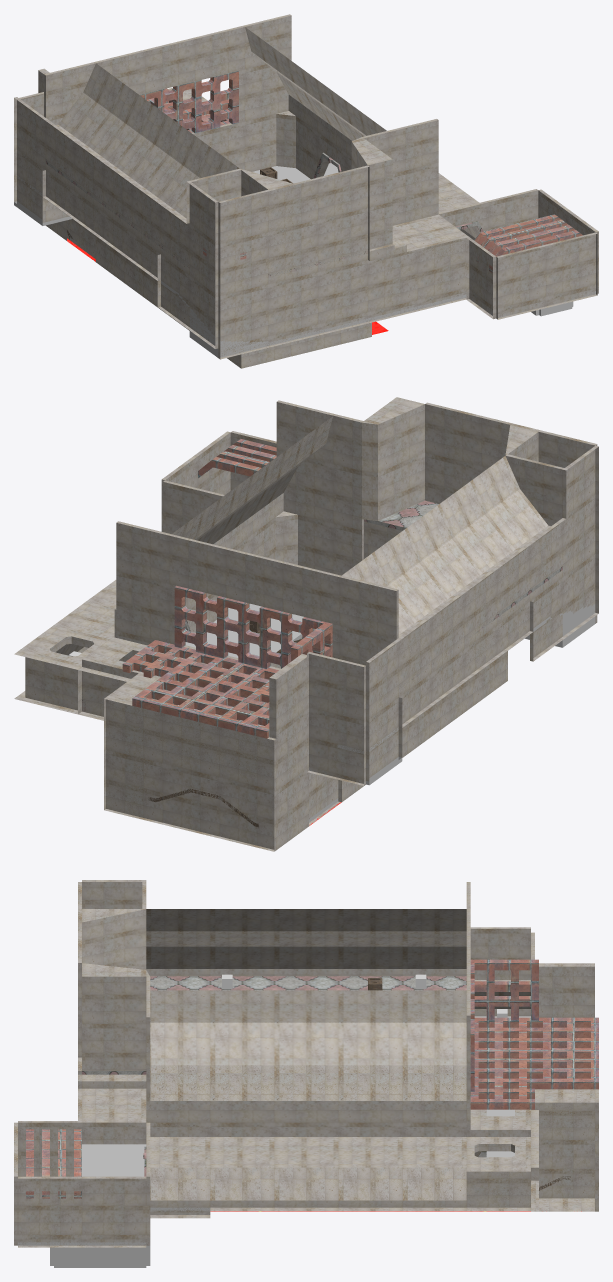
The model's file is map.gltf.
The picture shows the model from 3 angles, top to bottom: view 1: azimuth 30°, elevation 25°; view 2: azimuth 150°, elevation 25°; view 3: azimuth 270°, elevation 25°; orthographic projection. The views are drawn at different scales.
Parts seen in each view (by area): view 1: Material1, Material5, Material6, Material7; view 2: Material1, Material5, Material6, Material7; view 3: Material1, Material5, Material6, Material7.
Boxes of the visible parts, x1,y1,x2,y2 form: Material1: (14,14,598,368); Material5: (140,71,582,273); Material6: (14,163,595,357); Material7: (46,152,490,276); Material1: (14,397,598,851); Material5: (122,439,332,738); Material6: (178,603,595,822); Material7: (82,500,562,720); Material1: (14,880,598,1247); Material5: (26,959,598,1198); Material6: (18,1016,530,1267); Material7: (82,976,486,1176).
Bounding box in the file's own units: 64.12 × 34.31 × 82.12.
